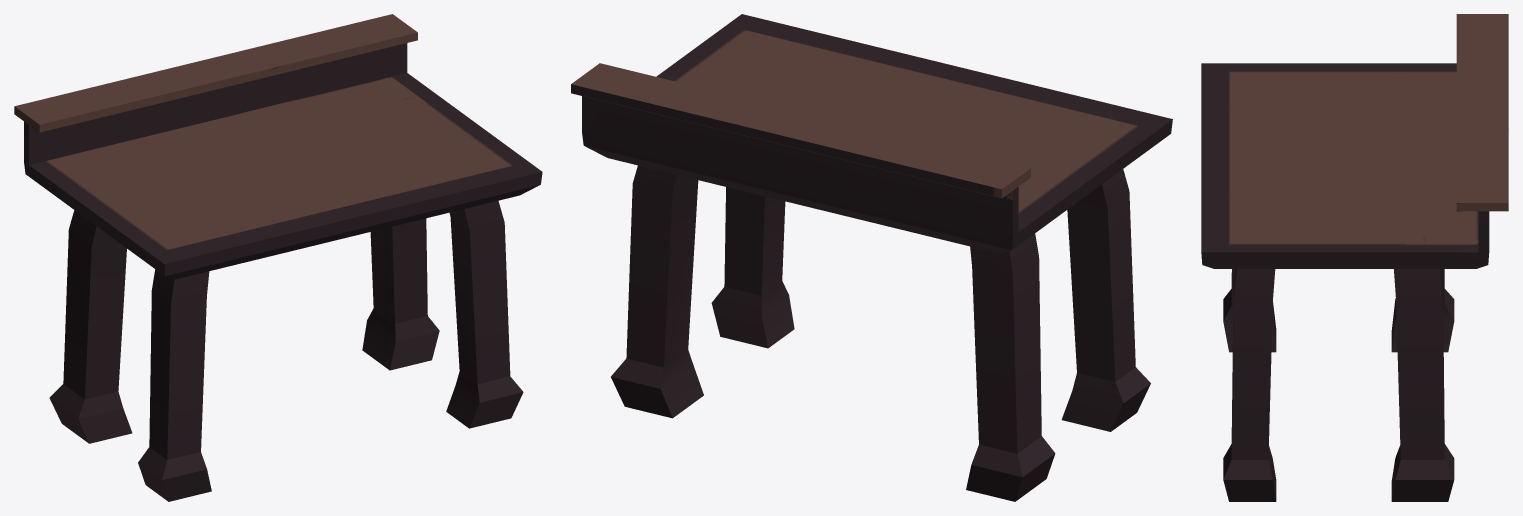
File: WhimsyCounter.fbx
3 views of the same model, side by side, from view 1: azimuth 30°, elevation 25°; view 2: azimuth 150°, elevation 25°; view 3: azimuth 270°, elevation 25° (orthographic). The views are drawn at different scales.
Visible parts, largest first — view 1: Cube.007; view 2: Cube.007; view 3: Cube.007.
Part boxes in pixels (<box>): Cube.007: <box>14,14,542,501</box>; Cube.007: <box>571,14,1172,501</box>; Cube.007: <box>1201,14,1508,501</box>.
Size of the model in its own units: 18336 by 13908 by 12587.
